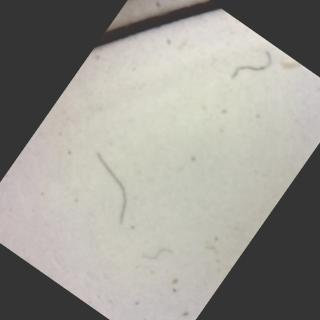Microplastic: (58, 128, 160, 226), (224, 38, 275, 92)
